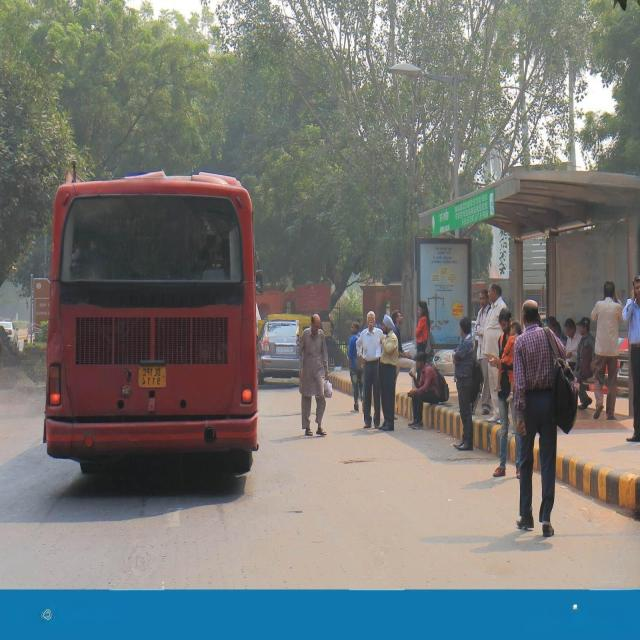bus: (44, 172, 258, 473)
car: (258, 320, 299, 385)
